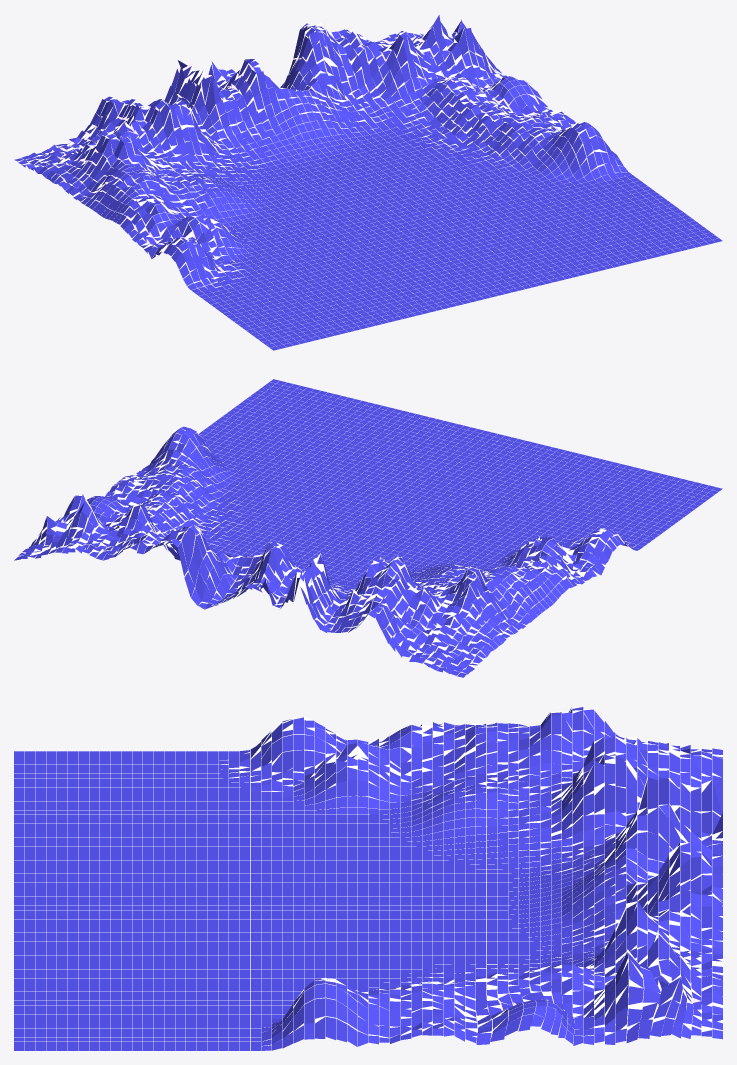
Rendered from gridPlane.glb.
The picture shows the model from 3 angles, top to bottom: view 1: azimuth 30°, elevation 25°; view 2: azimuth 150°, elevation 25°; view 3: azimuth 270°, elevation 25°; orthographic projection. The views are drawn at different scales.
Parts seen in each view (by area): view 1: Plane.002; view 2: Plane.002; view 3: Plane.002.
Boxes of the visible parts, bbox=[...] form: Plane.002: bbox=[14, 15, 722, 350]; Plane.002: bbox=[14, 379, 722, 677]; Plane.002: bbox=[14, 706, 722, 1050].
Bounding box in the file's own units: 20.01 × 3.09 × 20.
